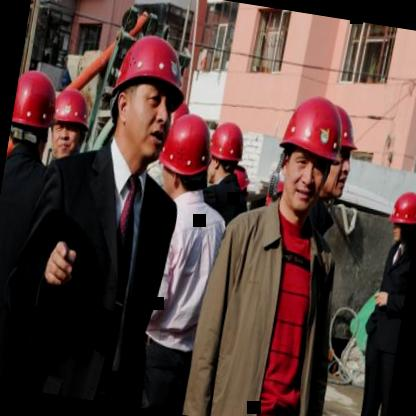helmet: (103, 30, 194, 171), (269, 87, 346, 216), (152, 110, 216, 206), (5, 69, 63, 167), (313, 102, 364, 204), (42, 82, 95, 165), (202, 115, 249, 190), (382, 183, 416, 260)
